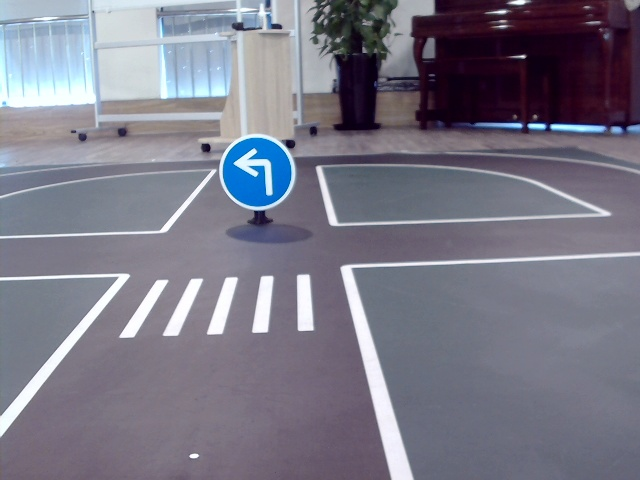turn_left: (233, 147, 278, 193)
